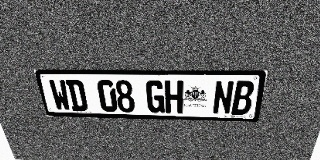0: (96, 80, 118, 112)
8: (114, 80, 135, 112)
B: (231, 81, 255, 115)
D: (65, 79, 88, 111)
G: (145, 80, 165, 113)
H: (165, 80, 183, 113)
N: (212, 81, 235, 114)
W: (48, 79, 72, 111)
